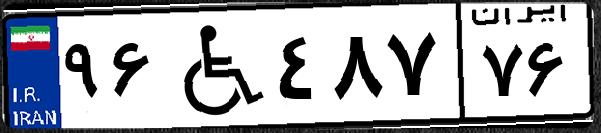4: (270, 28, 330, 110)
6: (525, 38, 570, 115), (110, 28, 158, 98)
7: (385, 28, 445, 110), (475, 38, 525, 113)
8: (330, 28, 385, 110)
9: (57, 26, 110, 100)
ژ (معلولین و جانبازان): (158, 12, 270, 120)
